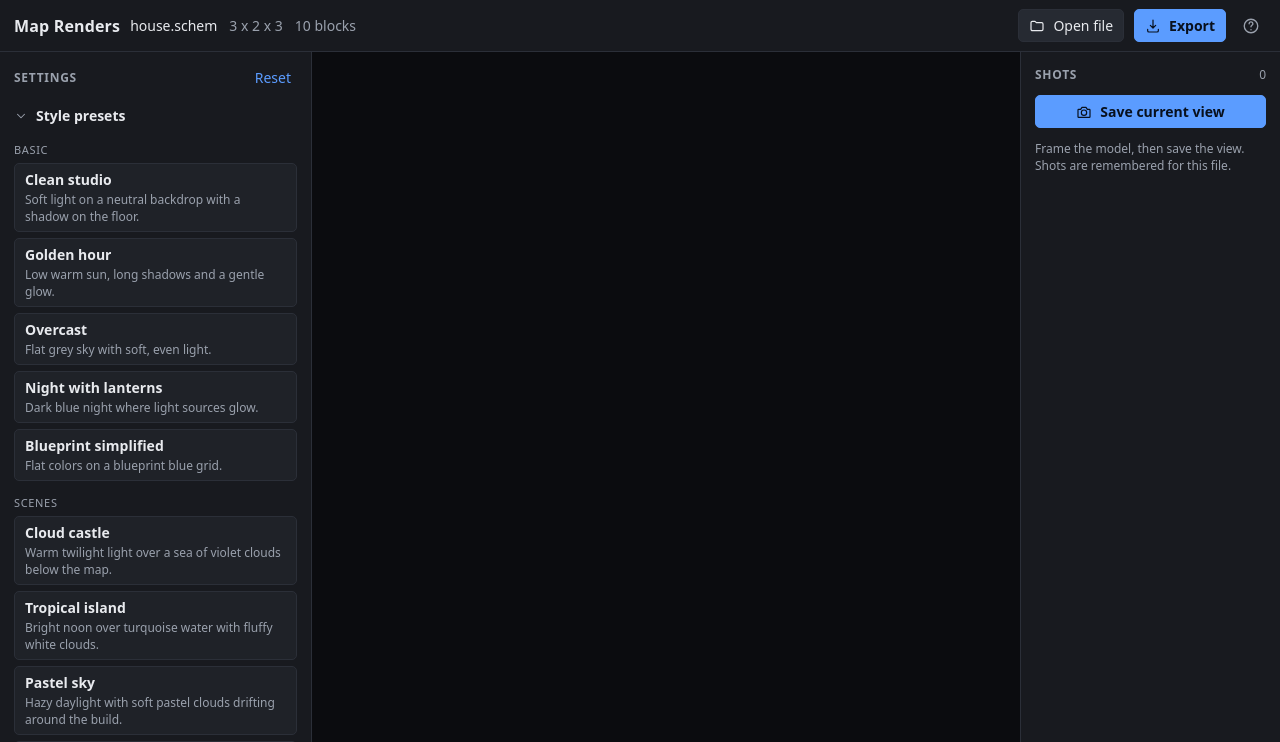
App › shows file info in the top bar and opens the export dialog
The width and height of the screenshot is (1280, 742).
Expected: the text "house.schem" is shown, [130,16,217,35]
Expected: the text "3 x 2 x 3" is shown, [229,16,283,35]
Click the button "Export". click: (1180, 26)
box: [1134,9,1226,42]
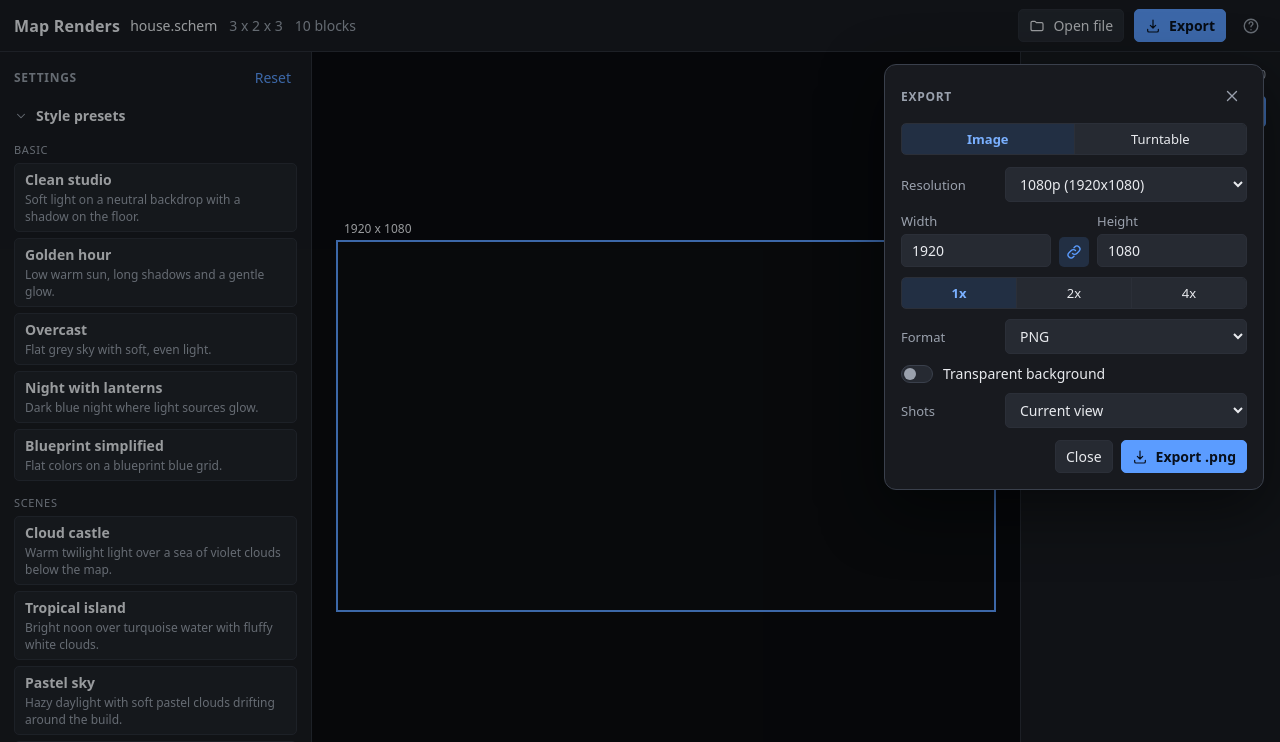
Result: the dialog "Export" is shown at [884,64,1264,490]
